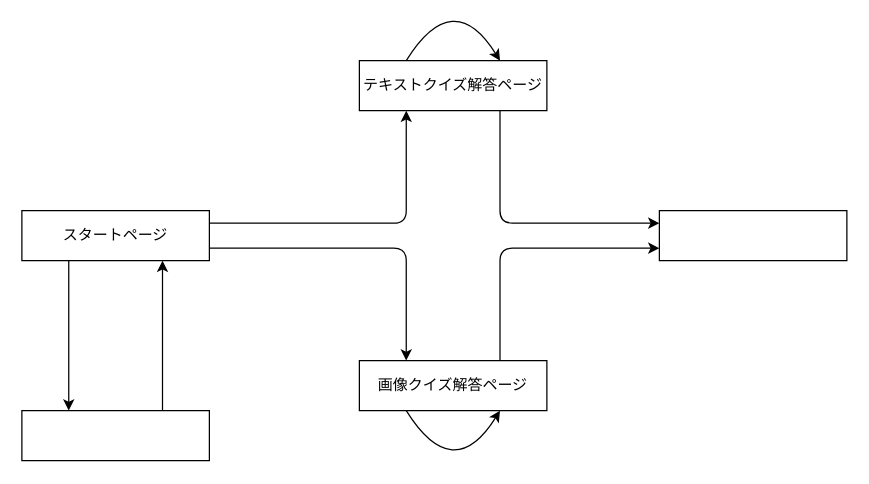
Image size: 869x484. Some labels were removed from this diagram. Here are the shapes that lost their labels. From the top down, the box of each, then its label:
(658, 209, 847, 261): 結果ページ
(21, 409, 209, 461): 問題登録ページ
